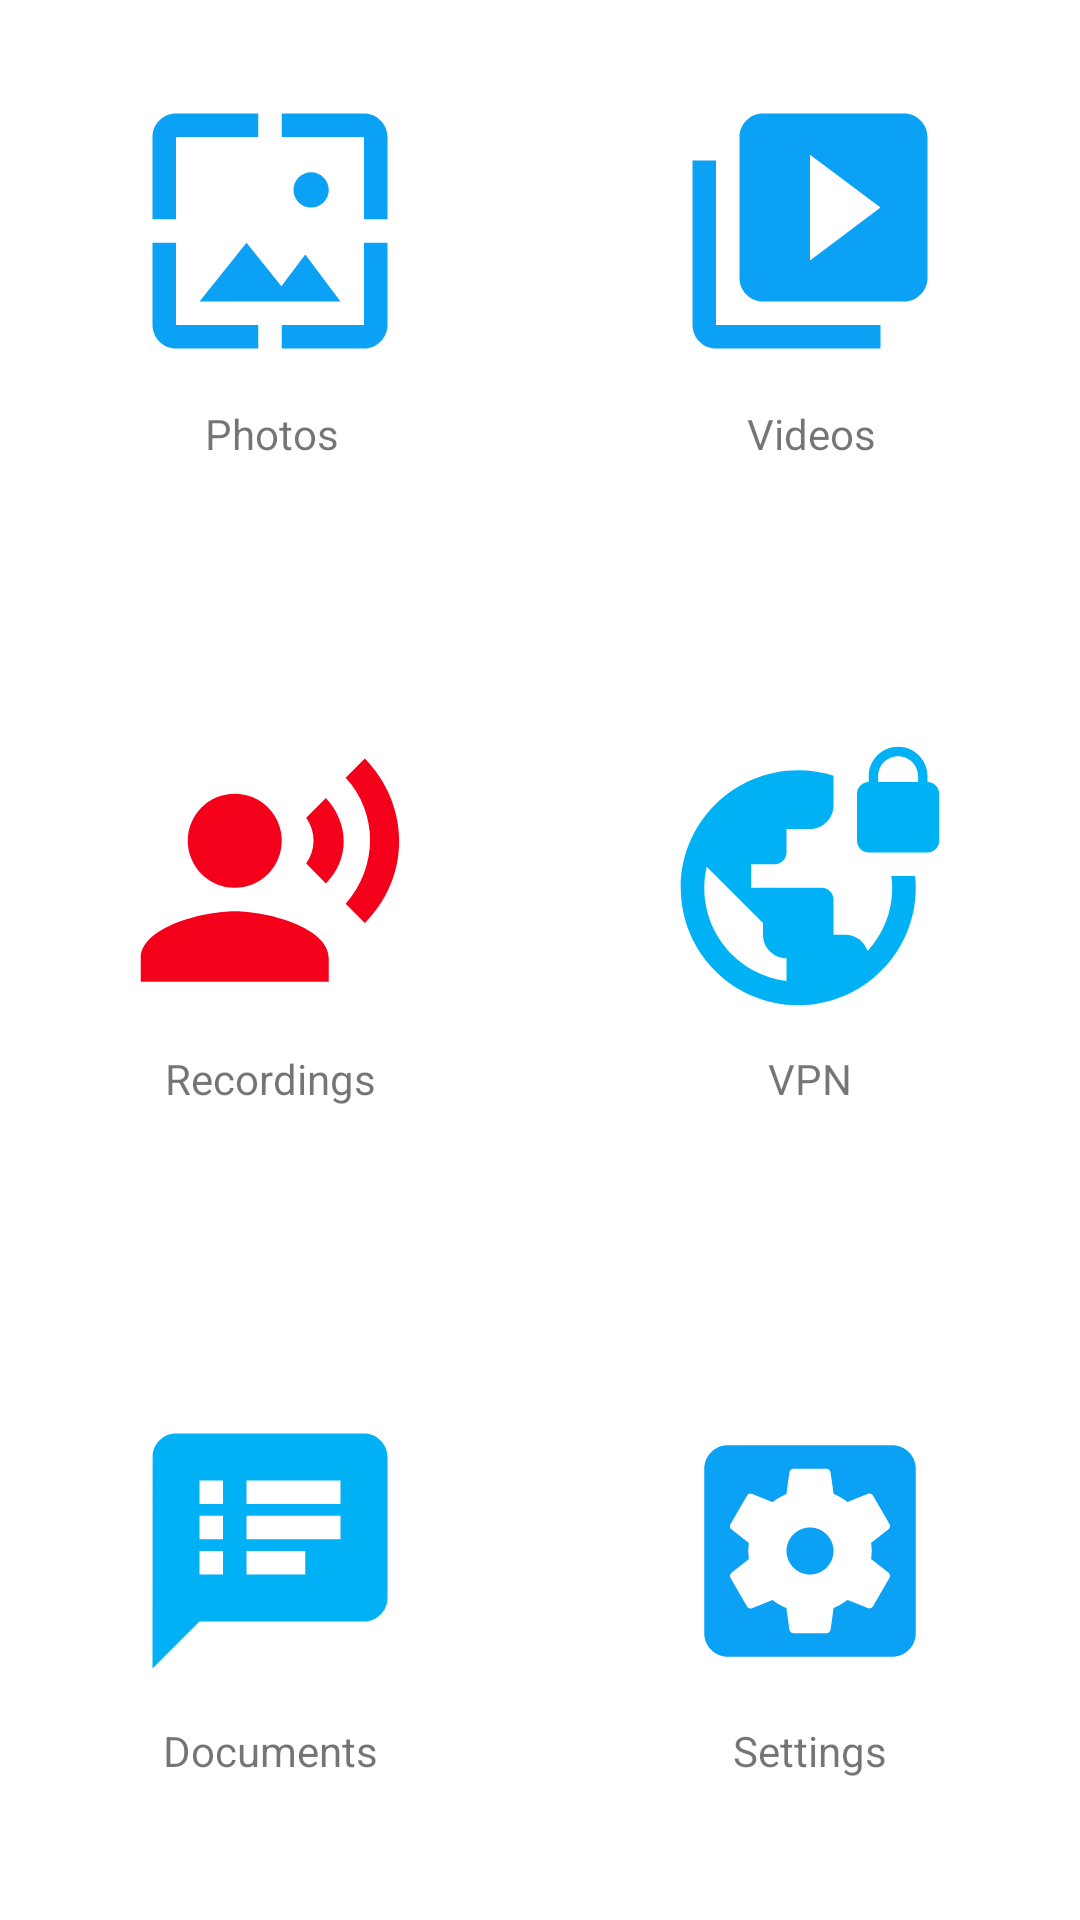

Screen size 1080px x 1920px. Icon name, then its center in pixels as [x,y]:
album: [270,231]
notes: [270,1551]
